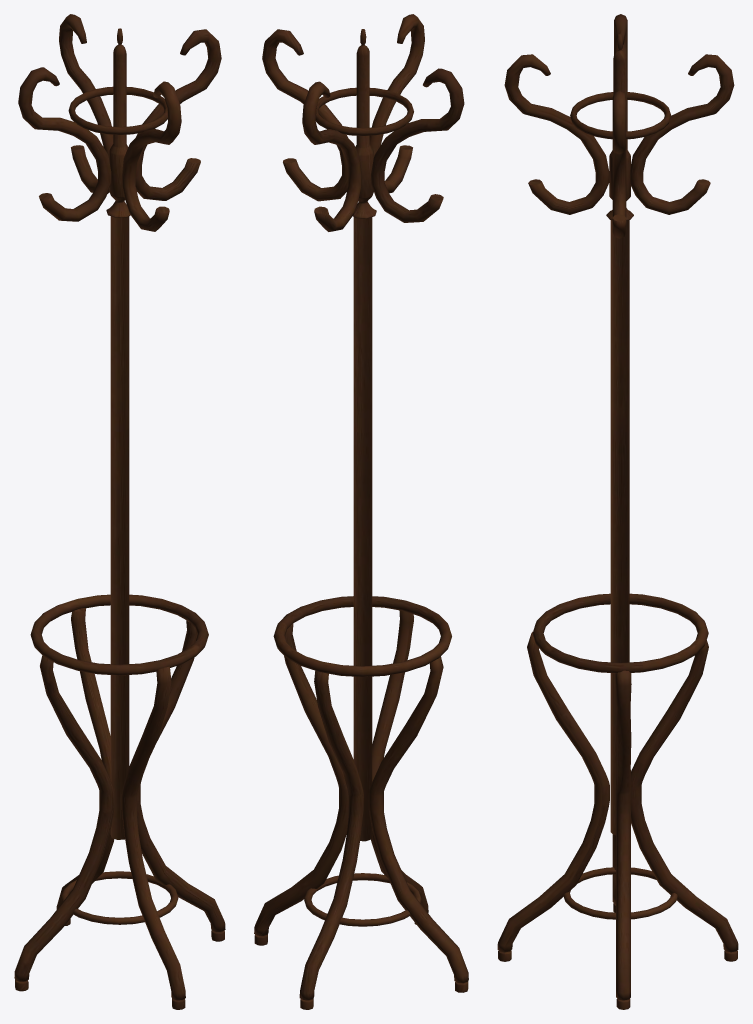
Rendered from obj_coat_rack_2.glb.
3 views of the same model, side by side, from view 1: azimuth 30°, elevation 25°; view 2: azimuth 150°, elevation 25°; view 3: azimuth 270°, elevation 25° (orthographic).
Visible parts, largest first — view 1: Cylinder_0; view 2: Cylinder_0; view 3: Cylinder_0.
Boxes of the visible parts, x1,y1,x2,y2 form: Cylinder_0: (14, 14, 225, 1009); Cylinder_0: (254, 14, 468, 1009); Cylinder_0: (497, 14, 738, 1009).
Bounding box in the file's own units: 0.4373 × 1.85 × 0.4373.
1 material, 1 textured.
